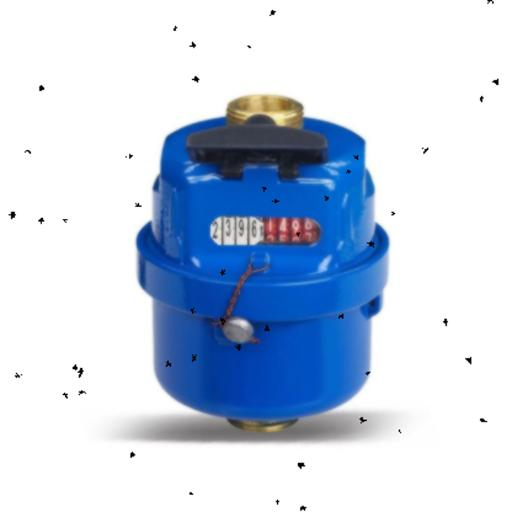1: (265, 218, 276, 244)
2: (211, 217, 222, 244)
3: (224, 218, 235, 245)
4: (279, 219, 290, 244)
6: (304, 219, 322, 244), (250, 219, 263, 244)
9: (237, 217, 248, 243), (291, 218, 302, 243)
border_water_meter_number: (210, 217, 323, 246)
